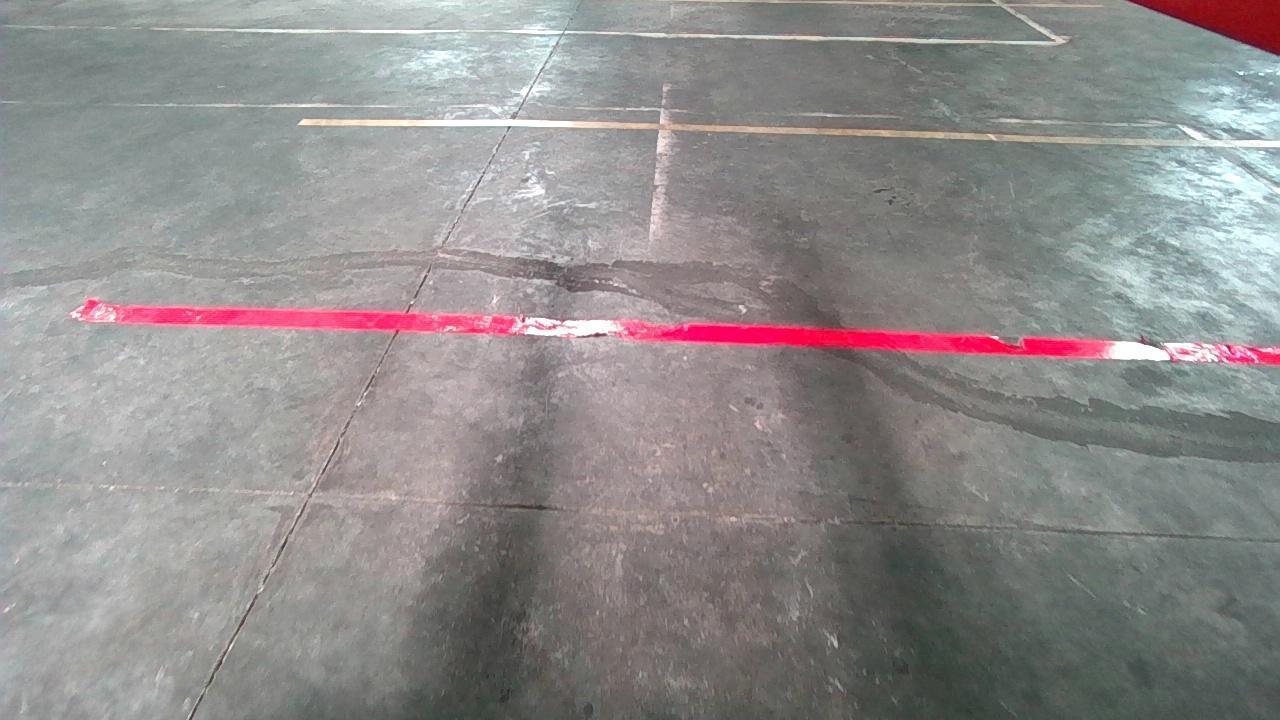red_line: (71, 299, 1280, 363)
yellow_line: (290, 104, 1243, 154)
